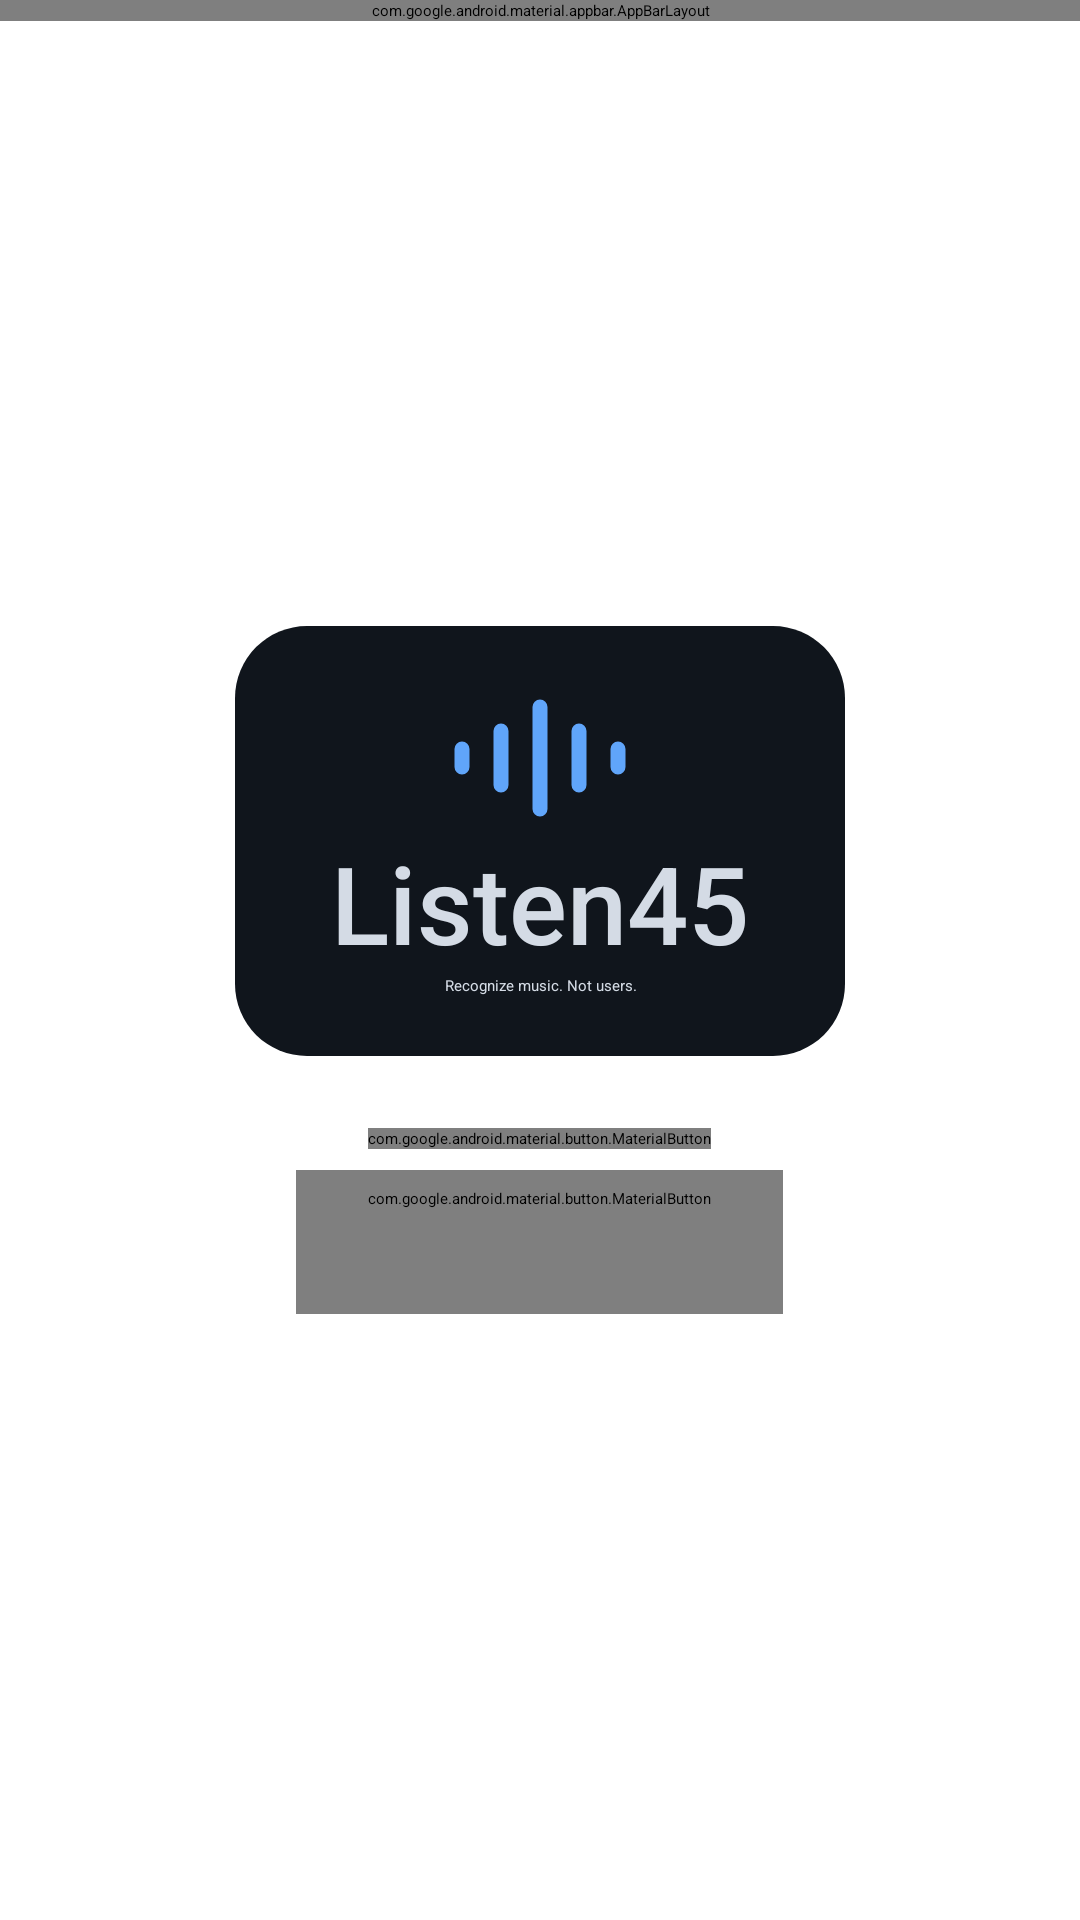

Point at icon controls on the screen. Image size 1080x1920, points as (x=x, y=y).
listen wave: (x=540, y=758)
